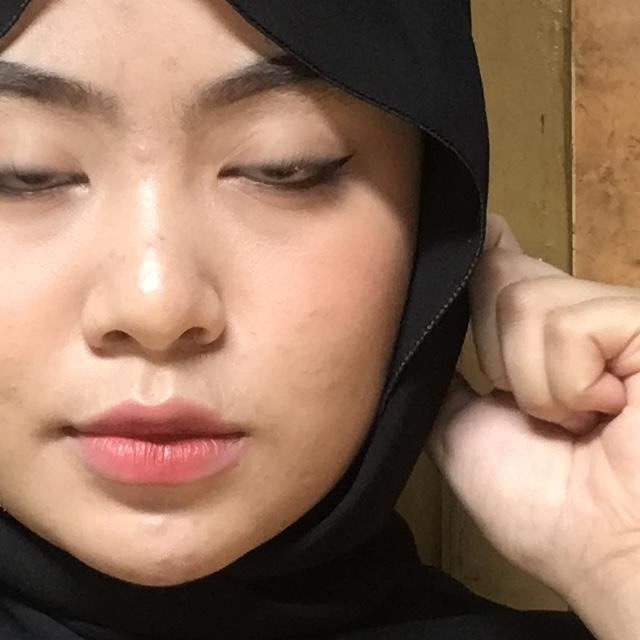ibu: (400, 206, 640, 640)
